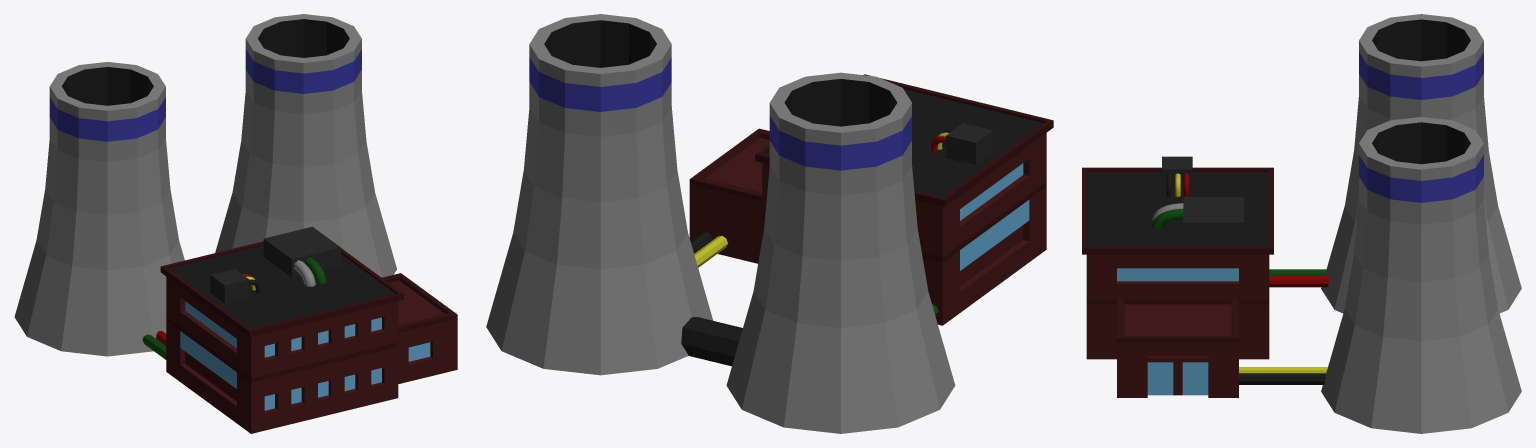
The model's file is reactor.glb.
The picture shows the model from 3 angles, left to right: view 1: azimuth 30°, elevation 25°; view 2: azimuth 150°, elevation 25°; view 3: azimuth 270°, elevation 25°; orthographic projection. The views are drawn at different scales.
Parts seen in each view (by area): view 1: Cube; view 2: Cube; view 3: Cube.
Part boxes in pixels (box(x1,y1,x2,y2)): Cube: box(14, 14, 457, 433); Cube: box(486, 14, 1053, 433); Cube: box(1082, 14, 1521, 433).
Bounding box in the file's own units: 14.6 × 9.18 × 14.45.
